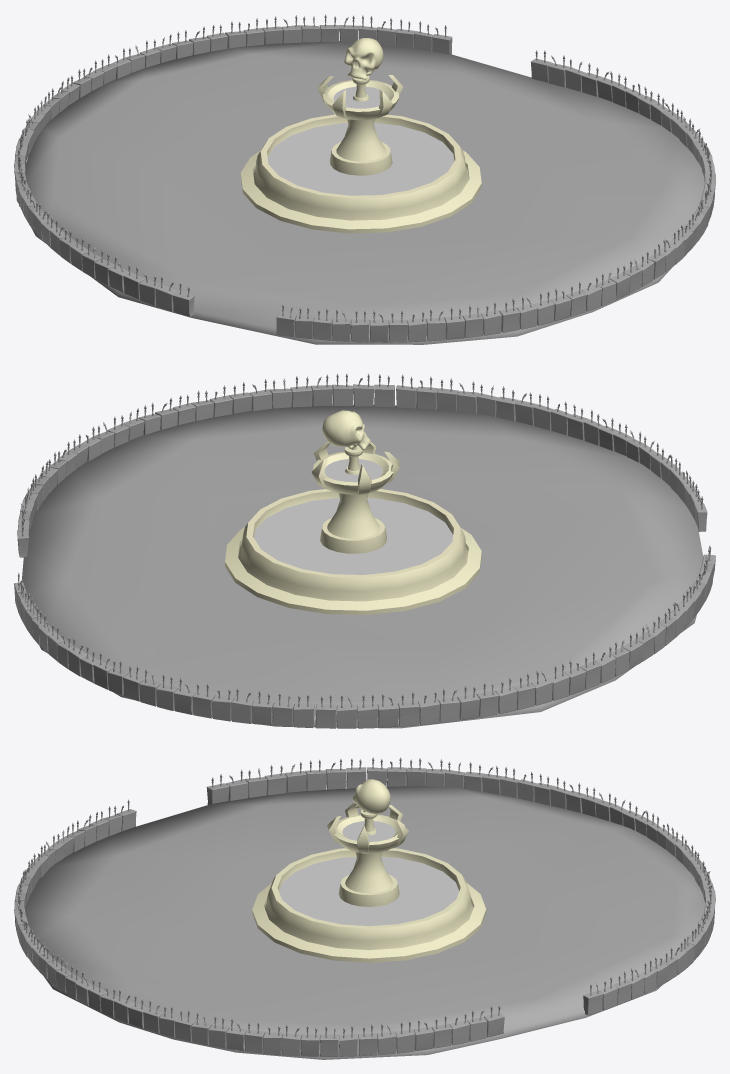
3 views of the same model, one above another, from view 1: azimuth 30°, elevation 25°; view 2: azimuth 150°, elevation 25°; view 3: azimuth 270°, elevation 25° (orthographic). The views are drawn at different scales.
Parts seen in each view (by area): view 1: CH_FO_Floor, CH_FO_Walls_Hell, CH_FO_Monument_Fountain_Hell, CH_FO_Spines; view 2: CH_FO_Floor, CH_FO_Walls_Hell, CH_FO_Monument_Fountain_Hell, CH_FO_Spines; view 3: CH_FO_Floor, CH_FO_Walls_Hell, CH_FO_Monument_Fountain_Hell, CH_FO_Spines.
Boxes of the visible parts, bbox=[...] form: CH_FO_Floor: bbox=[16, 41, 704, 344]; CH_FO_Walls_Hell: bbox=[14, 25, 715, 342]; CH_FO_Monument_Fountain_Hell: bbox=[240, 38, 481, 233]; CH_FO_Spines: bbox=[18, 14, 712, 322]; CH_FO_Floor: bbox=[22, 404, 703, 728]; CH_FO_Walls_Hell: bbox=[14, 384, 715, 728]; CH_FO_Monument_Fountain_Hell: bbox=[225, 410, 481, 614]; CH_FO_Spines: bbox=[18, 373, 711, 707]; CH_FO_Floor: bbox=[25, 785, 707, 1059]; CH_FO_Walls_Hell: bbox=[14, 767, 715, 1056]; CH_FO_Monument_Fountain_Hell: bbox=[252, 779, 486, 962]; CH_FO_Spines: bbox=[17, 757, 712, 1038].
Size of the model in its own units: 2808 by 724 by 3010.
